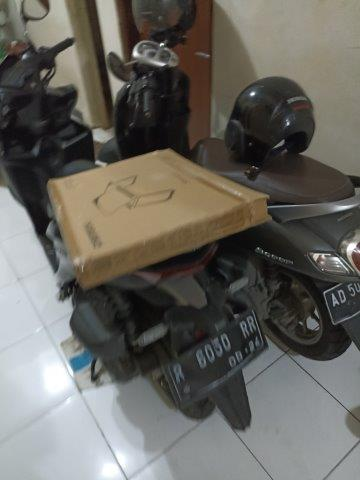kardus: (49, 150, 266, 285)
